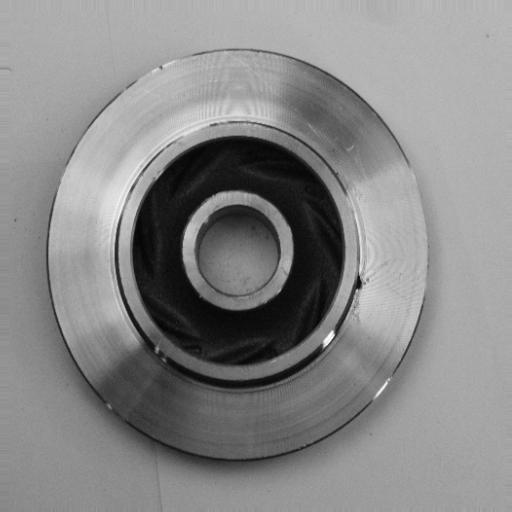crack: (347, 264, 371, 305)
scratch: (174, 110, 234, 146), (307, 321, 350, 364), (139, 334, 180, 375)
unpolished_casting: (45, 45, 432, 468)
